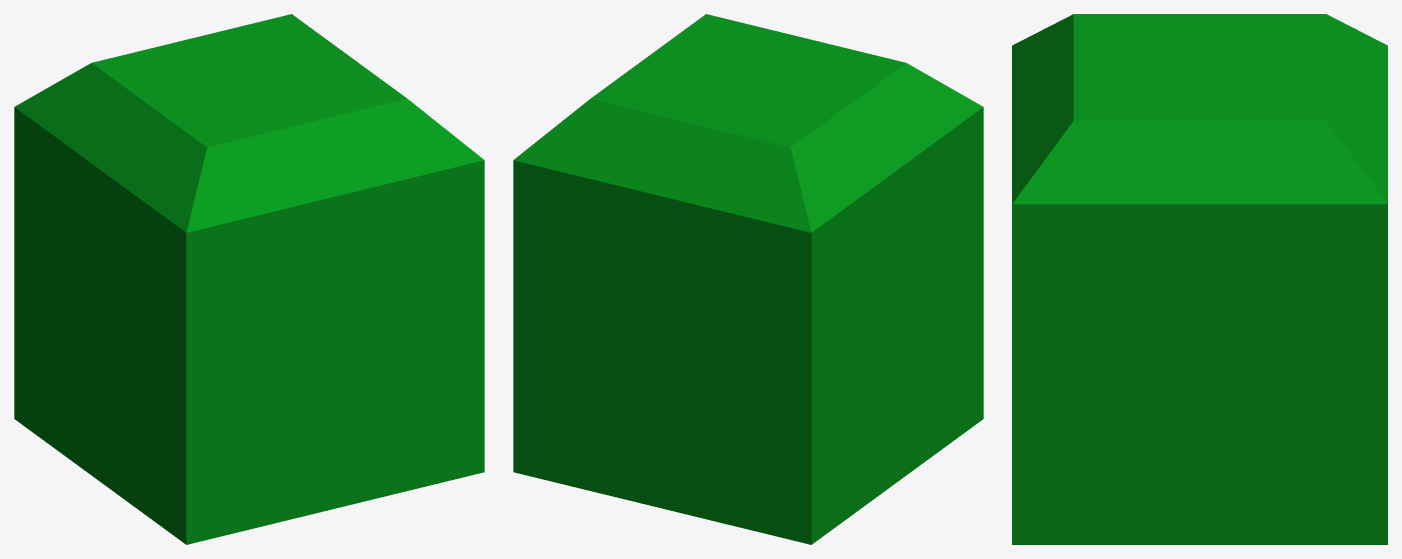
File: bush.glb
3 renders of one model, left to right at view 1: azimuth 30°, elevation 25°; view 2: azimuth 150°, elevation 25°; view 3: azimuth 270°, elevation 25°, orthographic. The views are drawn at different scales.
Parts seen in each view (by area): view 1: Cube; view 2: Cube; view 3: Cube.
Boxes of the visible parts, left/top/right/bottom form: Cube: left=14, top=14, right=484, bottom=544; Cube: left=513, top=14, right=983, bottom=544; Cube: left=1012, top=14, right=1387, bottom=544.
Size of the model in its own units: 1 by 1.17 by 1.
